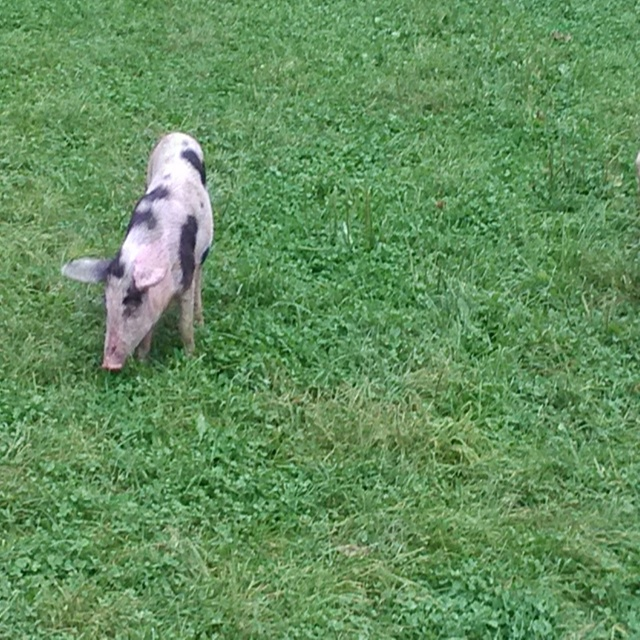Pig: (62, 131, 214, 371)
